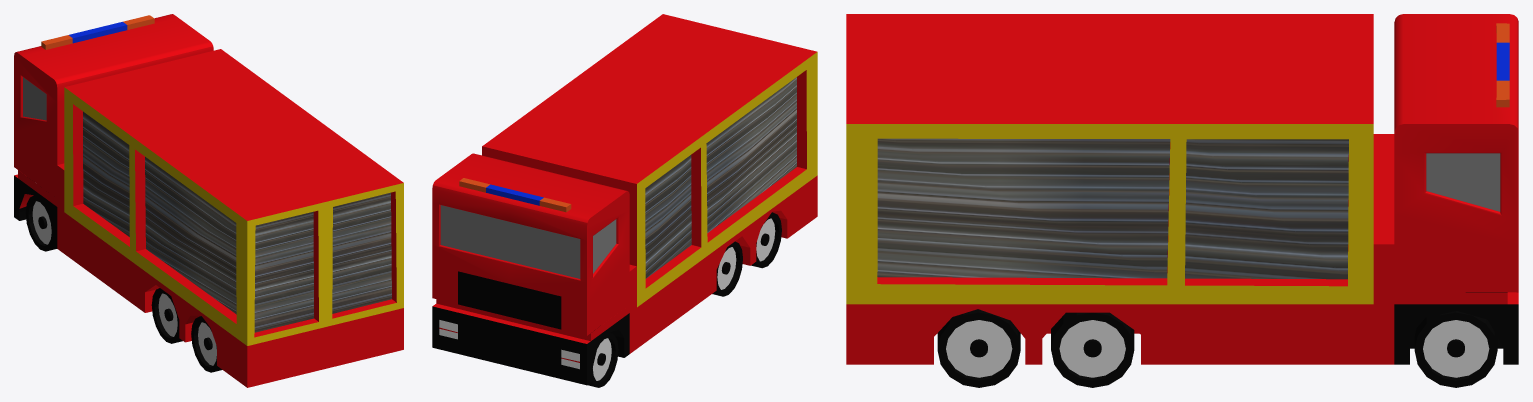
Rendered from emergency-truck.fbx.
3 views of the same model, side by side, from view 1: azimuth 30°, elevation 25°; view 2: azimuth 150°, elevation 25°; view 3: azimuth 270°, elevation 25° (orthographic). The views are drawn at different scales.
Visible parts, largest first — view 1: Cube, wheels; view 2: Cube, wheels; view 3: Cube, wheels.
Boxes of the visible parts, x1=… form: Cube: x1=14, y1=14, x2=403, y2=387; wheels: x1=25, y1=195, x2=222, y2=372; Cube: x1=432, y1=14, x2=817, y2=385; wheels: x1=587, y1=212, x2=781, y2=387; Cube: x1=846, y1=14, x2=1518, y2=364; wheels: x1=937, y1=309, x2=1497, y2=387.
Bounding box in the file's own units: 392 × 453 × 1011.
Materials: 9 (1 with a texture image).
